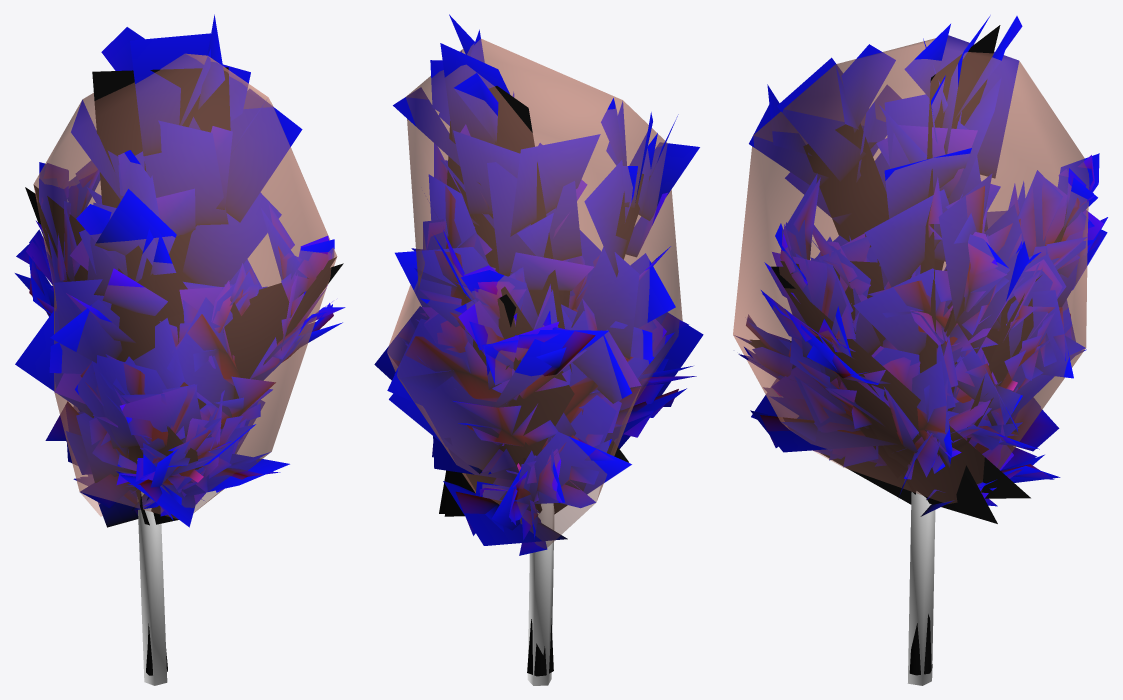
The model's file is tree_beech_small_c.dae.
The picture shows the model from 3 angles, left to right: view 1: azimuth 30°, elevation 25°; view 2: azimuth 150°, elevation 25°; view 3: azimuth 270°, elevation 25°; orthographic projection. The views are drawn at different scales.
Parts seen in each view (by area): view 1: Colmesh_small_c-1, beech_small_c_a1200, beech_small_c_a400; view 2: Colmesh_small_c-1, beech_small_c_a1200, beech_small_c_a400; view 3: Colmesh_small_c-1, beech_small_c_a1200, beech_small_c_a400.
Boxes of the visible parts, box(x1,y1,x2,y2) form: Colmesh_small_c-1: box(33, 53, 337, 685); beech_small_c_a1200: box(15, 14, 345, 675); beech_small_c_a400: box(25, 162, 343, 527); Colmesh_small_c-1: box(387, 38, 682, 685); beech_small_c_a1200: box(392, 14, 699, 676); beech_small_c_a400: box(374, 174, 703, 545); Colmesh_small_c-1: box(733, 35, 1089, 685); beech_small_c_a1200: box(734, 15, 1107, 675); beech_small_c_a400: box(739, 153, 1103, 516).
Bounding box in the file's own units: 4.5 × 4.94 × 10.09.
